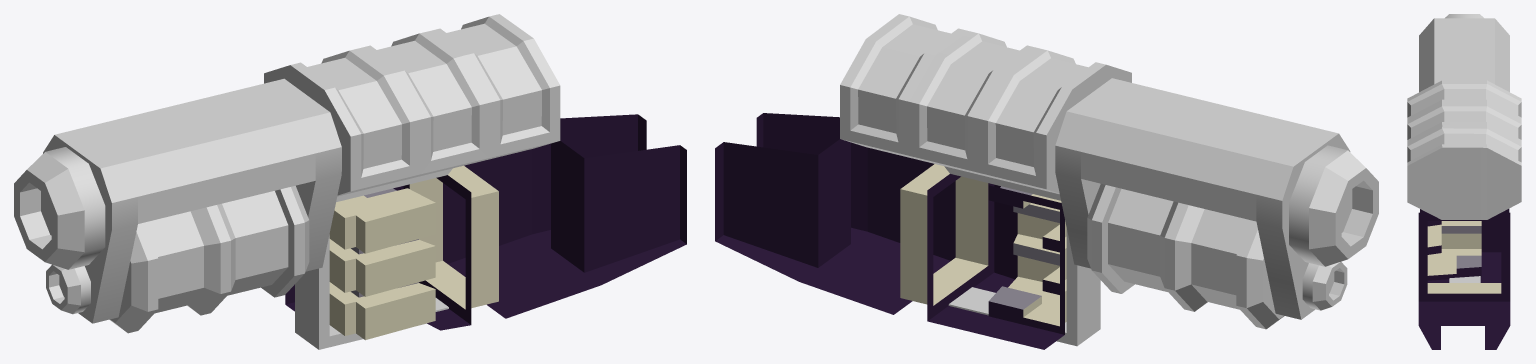
File: gunTest.FBX
3 views of the same model, side by side, from view 1: azimuth 30°, elevation 25°; view 2: azimuth 150°, elevation 25°; view 3: azimuth 270°, elevation 25° (orthographic). The views are drawn at different scales.
Visible parts, largest first — view 1: Chest001, Cylinder001, Box001, Core, Cylinder002, Cylinder003; view 2: Chest001, Cylinder001, Box001, Core, Cylinder002, Cylinder003; view 3: Cylinder001, Chest001, Box001, Cylinder002.
Part boxes in pixels (<box>): Chest001: <box>285,114,686,340</box>; Cylinder001: <box>264,14,560,349</box>; Box001: <box>43,78,341,323</box>; Core: <box>109,185,309,333</box>; Cylinder002: <box>14,147,105,269</box>; Cylinder003: <box>46,264,90,314</box>; Chest001: <box>715,113,1066,349</box>; Cylinder001: <box>840,14,1131,346</box>; Box001: <box>1055,78,1350,319</box>; Core: <box>1087,184,1284,329</box>; Cylinder002: <box>1289,145,1378,266</box>; Cylinder003: <box>1302,262,1347,310</box>; Cylinder001: <box>1407,80,1521,282</box>; Chest001: <box>1418,209,1510,349</box>; Box001: <box>1419,18,1509,92</box>; Cylinder002: <box>1445,14,1483,18</box>.
Bounding box in the file's own units: 23.57 × 9.5 × 5.65.
